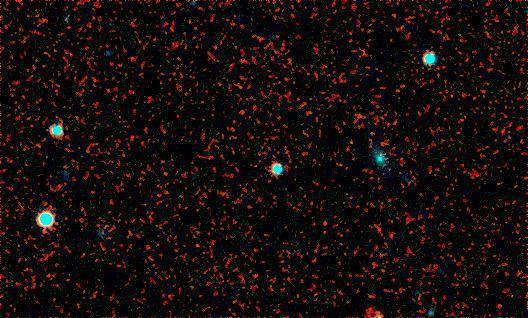star: (334, 129, 364, 159)
